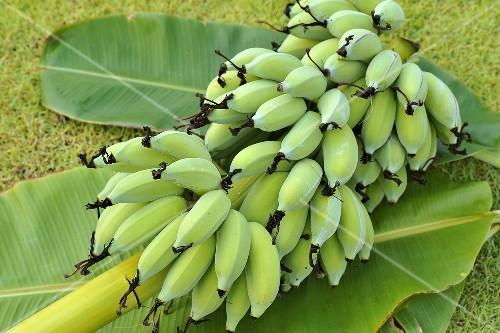Banana Unripe: (52, 3, 471, 330)
